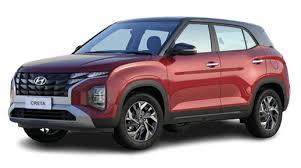hyundai: (31, 73, 48, 88)
